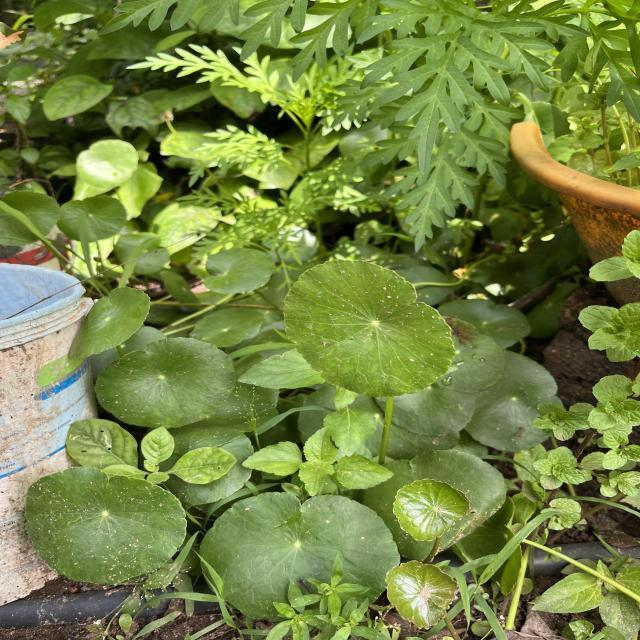Bacopa monnieri: (196, 488, 404, 626), (281, 254, 458, 401), (22, 463, 189, 588), (91, 334, 240, 432), (64, 284, 154, 362), (382, 556, 462, 633), (390, 475, 474, 545)
